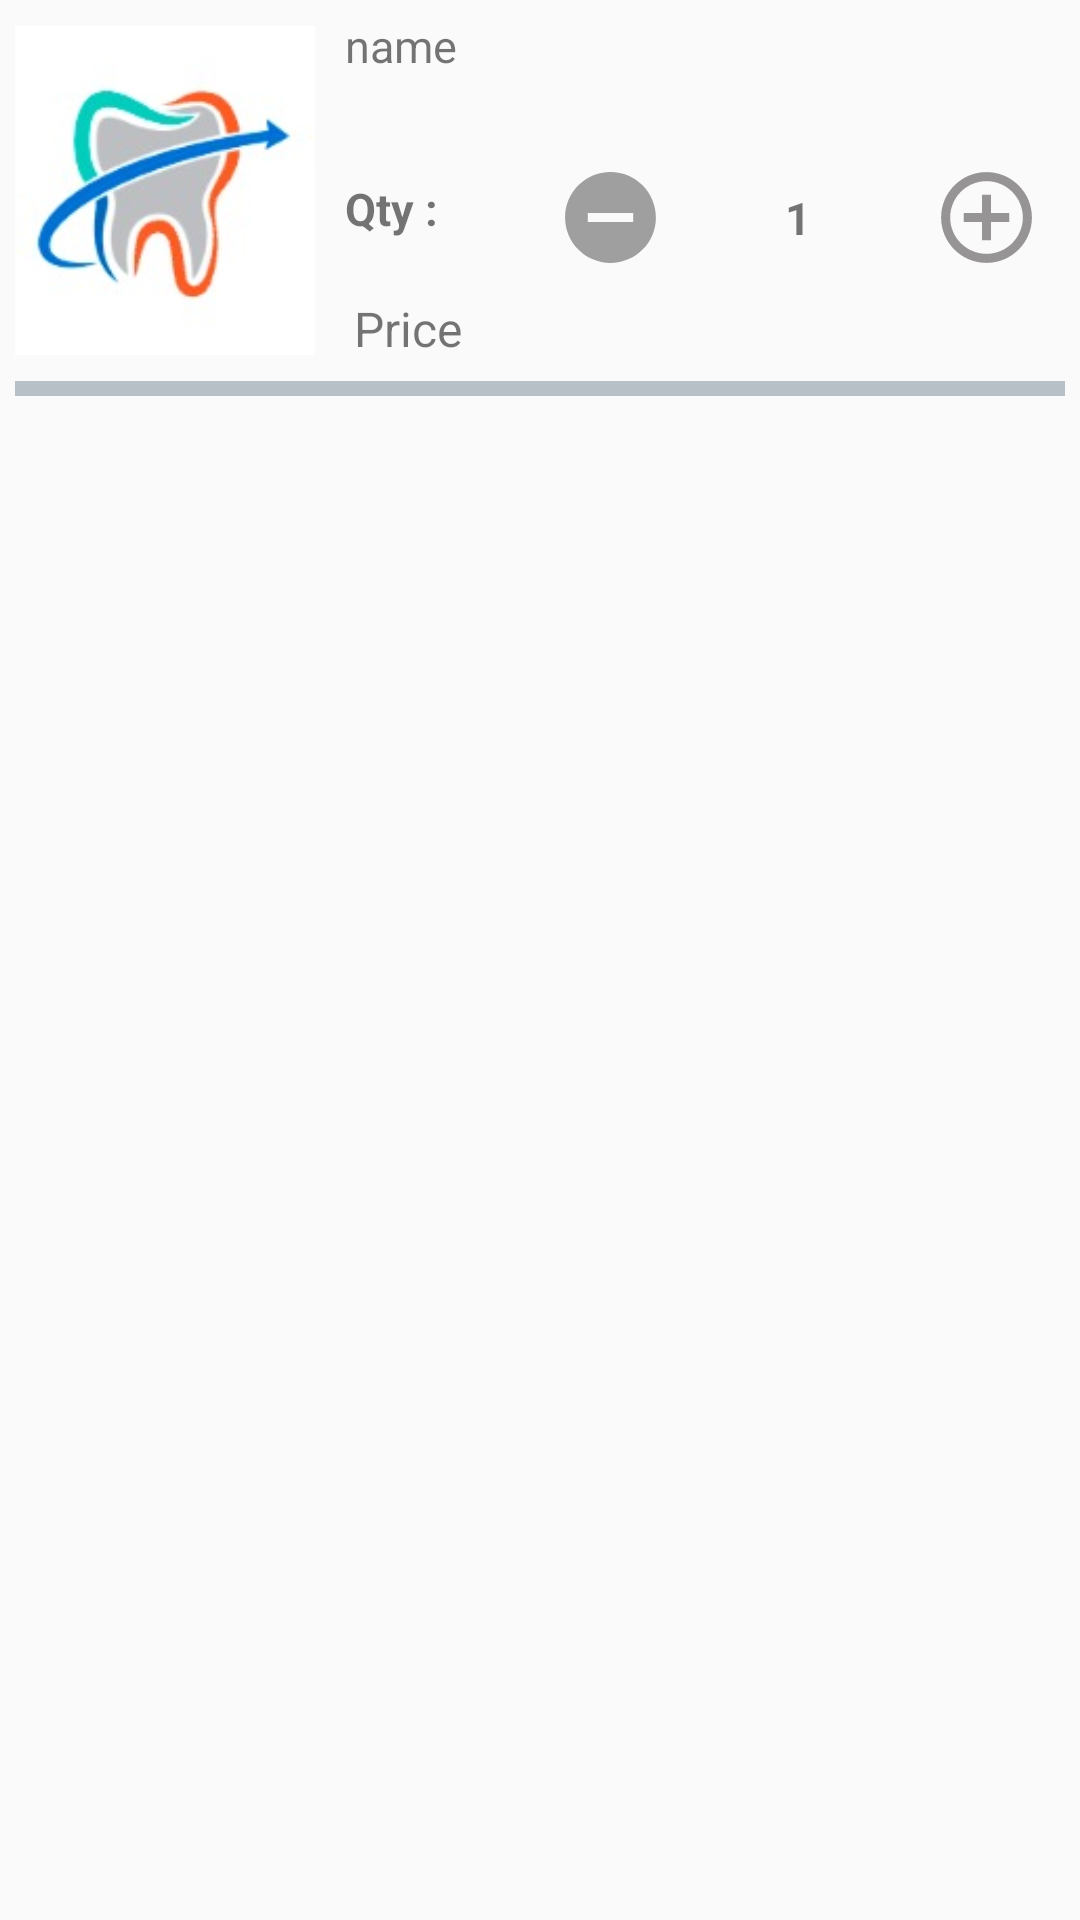

Icon bounding boxes for this 1080 x 1920 phone screenshot, format [x1,y1,x2,y2]:
add: [941,172,1032,263]
minus: [565,172,656,263]
